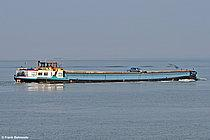Ship: (10, 56, 203, 88)
